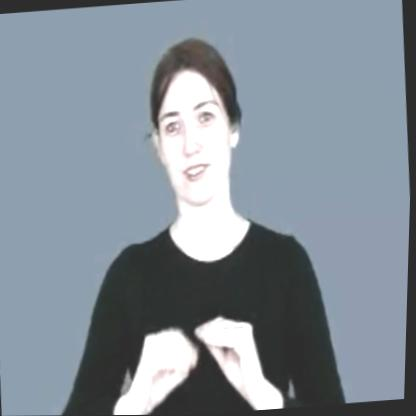Fix: (123, 284, 274, 415)
